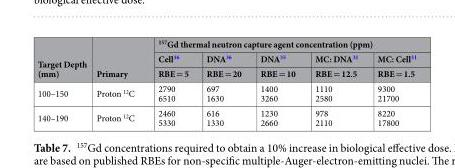table: (36, 37, 415, 128)
table column: (304, 37, 367, 128), (90, 37, 145, 128), (36, 37, 90, 128), (196, 37, 250, 128), (250, 37, 304, 128), (145, 37, 196, 128), (367, 37, 415, 128)
table column header: (36, 37, 415, 80)
table row: (36, 80, 415, 105), (36, 105, 415, 128), (36, 50, 415, 65), (36, 65, 415, 80), (36, 37, 415, 50)
table spanning cell: (145, 37, 415, 50), (90, 37, 145, 80), (36, 37, 90, 80), (304, 50, 367, 80), (196, 50, 250, 80), (250, 50, 304, 80), (145, 50, 196, 80), (367, 50, 415, 80)
